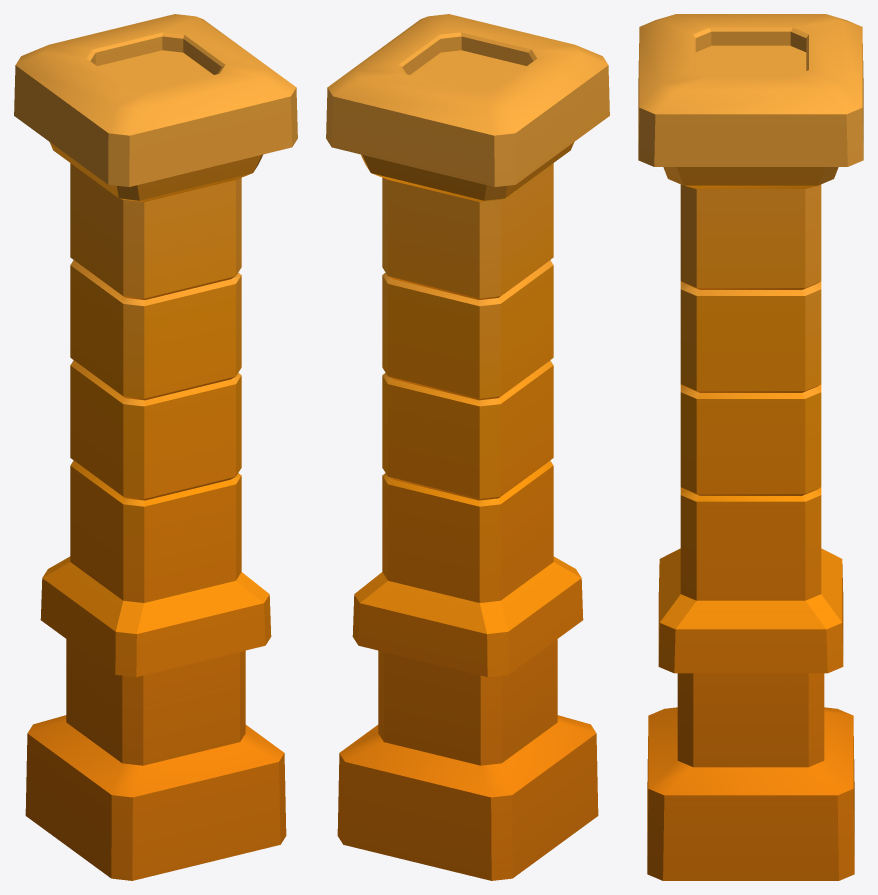
File: Pillar 01.fbx
The picture shows the model from 3 angles, left to right: view 1: azimuth 30°, elevation 25°; view 2: azimuth 150°, elevation 25°; view 3: azimuth 270°, elevation 25°; orthographic projection. The views are drawn at different scales.
Visible parts, largest first — view 1: Pillar 01; view 2: Pillar 01; view 3: Pillar 01.
Part boxes in pixels (x1,y1,x2,y2): Pillar 01: (14,14,297,880); Pillar 01: (326,14,609,880); Pillar 01: (638,14,863,880).
Bounding box in the file's own units: 77.93 × 300 × 77.95.
